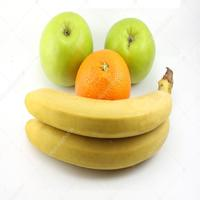apple: (39, 15, 103, 92), (104, 15, 157, 85)
banane: (23, 86, 193, 175)
orange: (77, 51, 146, 111)
